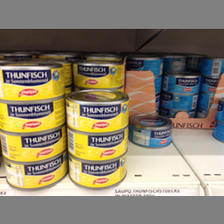fish: (65, 89, 130, 134), (1, 63, 63, 99), (66, 127, 129, 162), (1, 100, 65, 134), (68, 156, 128, 191), (1, 158, 66, 190), (1, 132, 66, 163), (130, 113, 173, 149), (162, 71, 200, 94)
